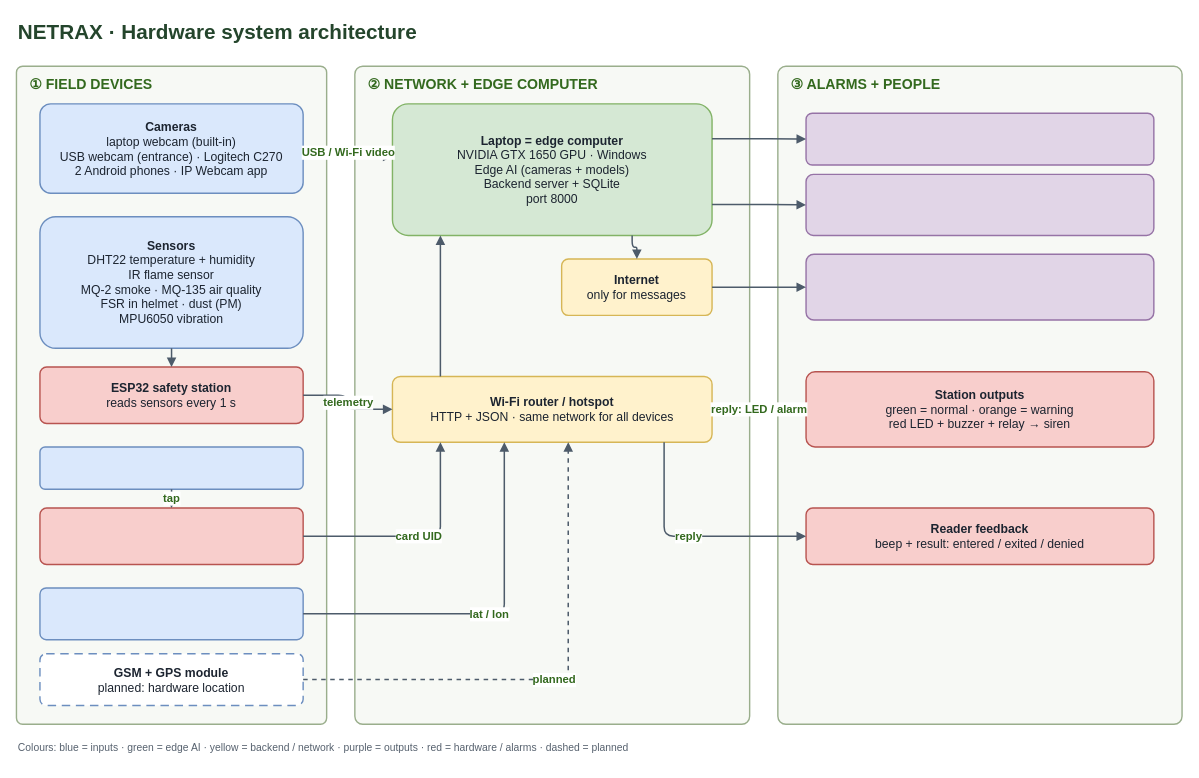
The diagram is 1199 pixels wide and 778 high, and some of its shapes have lost their labels. Each missing label, with the centre of its shape:
Dashboard screen any browser on the network (laptop, PC, phone): point 979,204
ESP32 + RC522 reader RFID attendance unit: point 171,536
Laptop speaker voice call-out + siren: point 979,138
Supervisor's phone / browser GPS location fix (in use): point 171,613
Supervisor's phone Telegram · e-mail · phone call (Twilio): point 979,286
Worker RFID card 13.56 MHz: point 171,468
